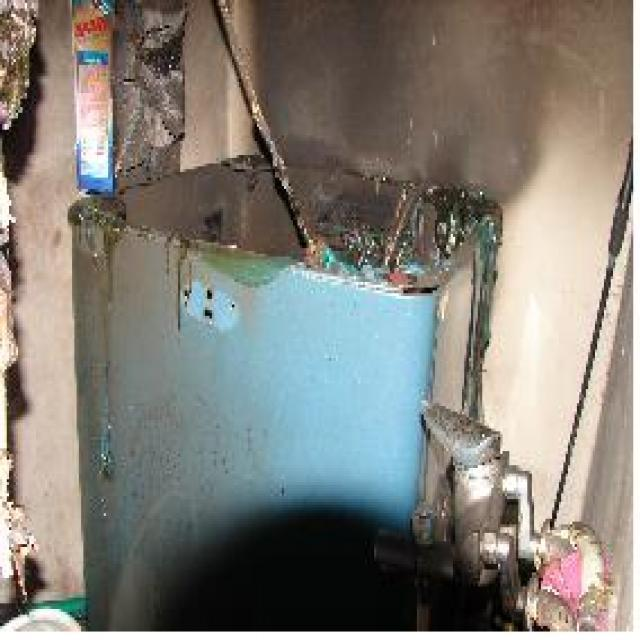Boiler: (21, 66, 540, 640)
